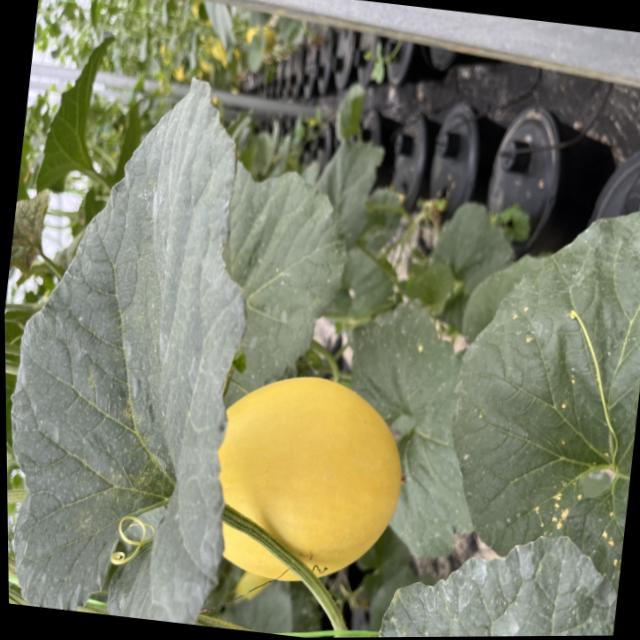downy mildew: (427, 169, 640, 613)
powdery mildew: (1, 54, 261, 626), (367, 513, 623, 637)
